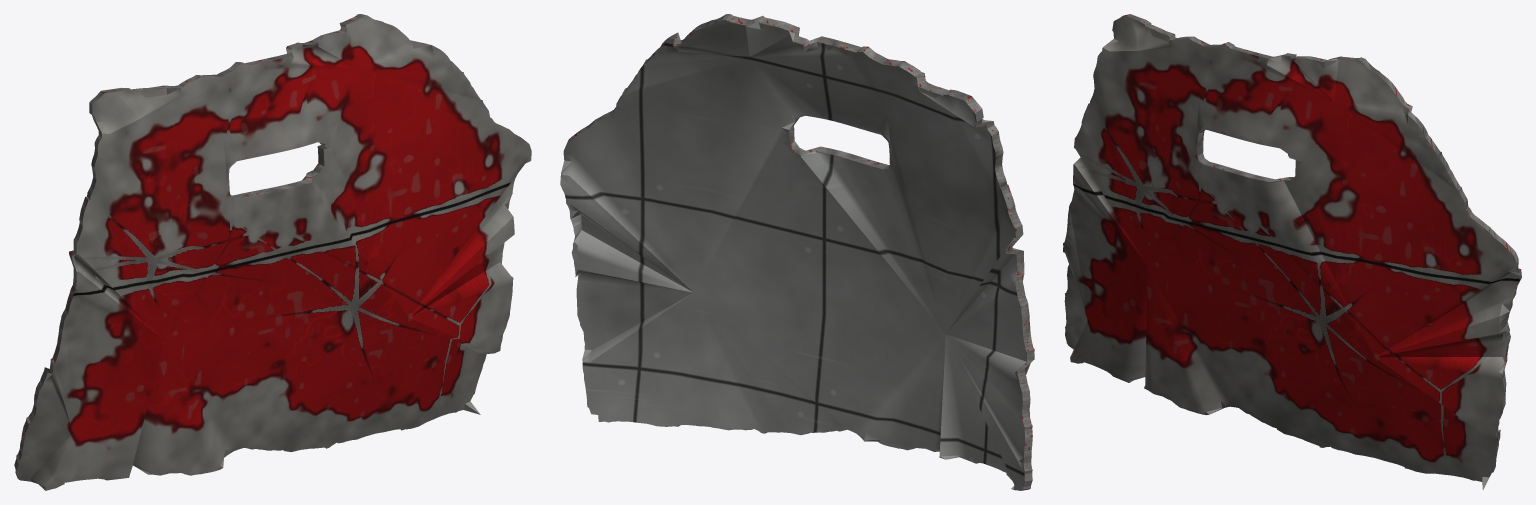
Rendered from baymax_plating_shard_lod2.glb.
The picture shows the model from 3 angles, left to right: view 1: azimuth 30°, elevation 25°; view 2: azimuth 150°, elevation 25°; view 3: azimuth 330°, elevation 25°; orthographic projection. The views are drawn at different scales.
Parts seen in each view (by area): view 1: baymax_plating_shard; view 2: baymax_plating_shard; view 3: baymax_plating_shard.
Part boxes in pixels (bbox=[...]): baymax_plating_shard: bbox=[14, 14, 531, 490]; baymax_plating_shard: bbox=[560, 14, 1034, 490]; baymax_plating_shard: bbox=[1063, 14, 1521, 489].
Bounding box in the file's own units: 0.7361 × 0.6152 × 0.1131.
Materials: 3 (3 with a texture image).
